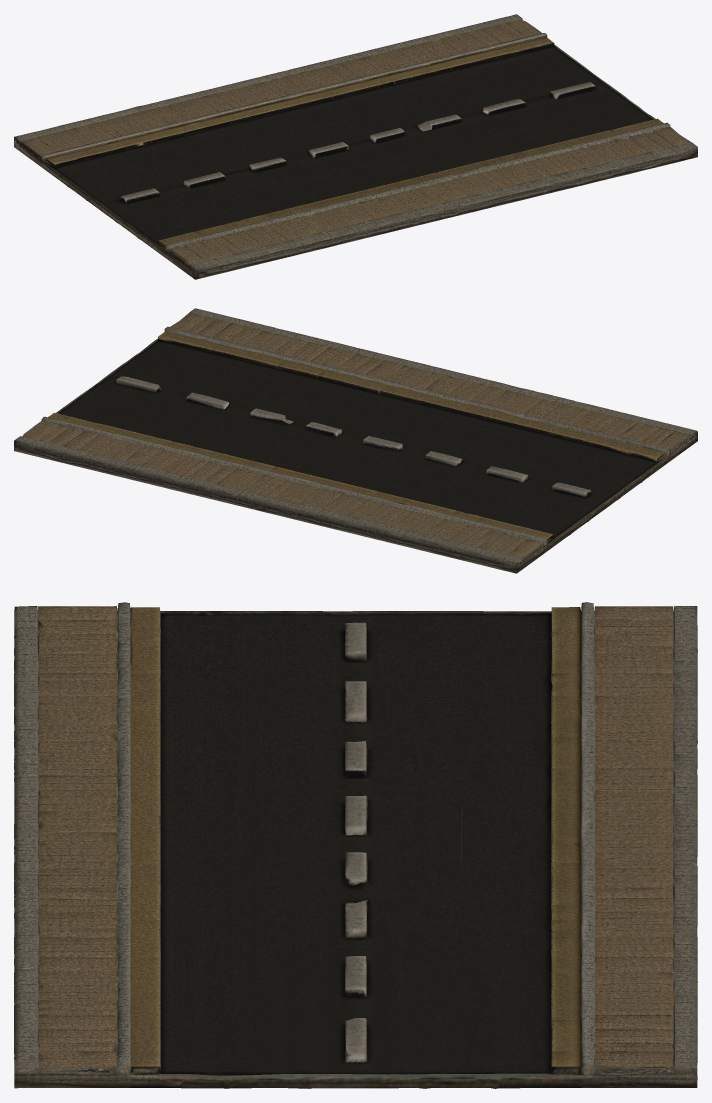
The model's file is tripo_convert_123ce287-27be-4315-9c32-bb40fcd835cf.fbx.
The picture shows the model from 3 angles, top to bottom: view 1: azimuth 30°, elevation 25°; view 2: azimuth 150°, elevation 25°; view 3: azimuth 270°, elevation 25°; orthographic projection. The views are drawn at different scales.
Parts seen in each view (by area): view 1: tripo_node_123ce287; view 2: tripo_node_123ce287; view 3: tripo_node_123ce287.
Boxes of the visible parts, box(x1,y1,x2,y2) form: tripo_node_123ce287: box(14, 14, 697, 279); tripo_node_123ce287: box(14, 308, 697, 573); tripo_node_123ce287: box(14, 602, 697, 1088).
Size of the model in its own units: 0.9828 by 0.0294 by 0.6112.
Materials: 1 (1 with a texture image).
